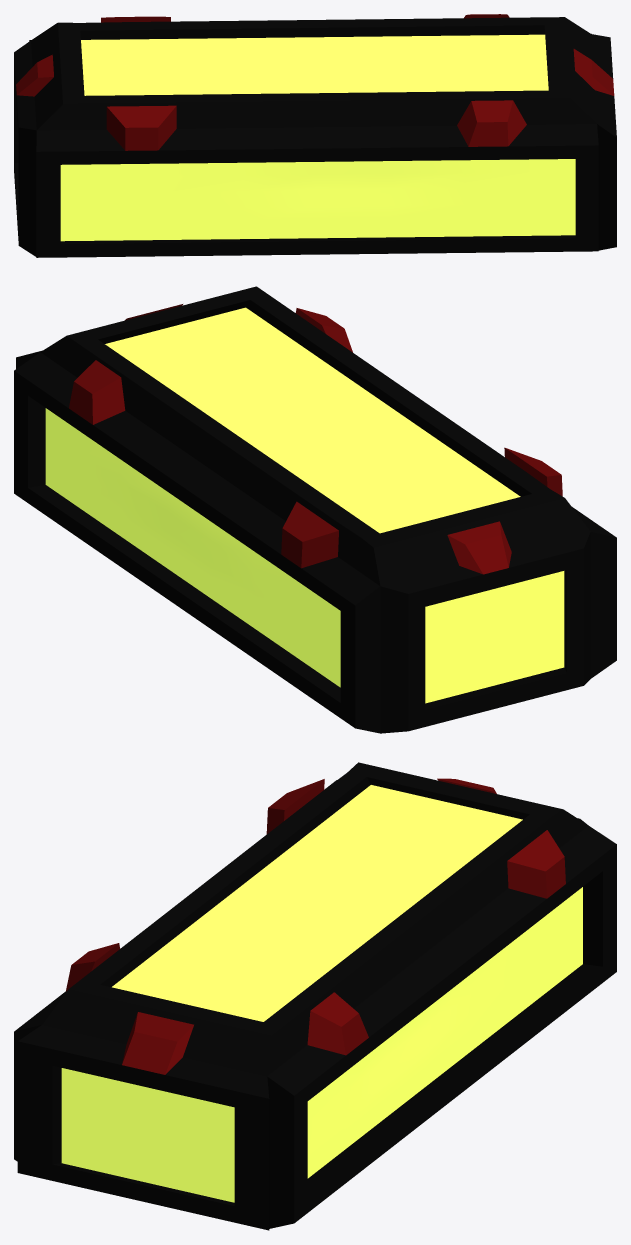
The model's file is cargo.fbx.
3 renders of one model, top to bottom at view 1: azimuth 30°, elevation 25°; view 2: azimuth 150°, elevation 25°; view 3: azimuth 270°, elevation 25°, orthographic. The views are drawn at different scales.
Parts seen in each view (by area): view 1: pCube1; view 2: pCube1; view 3: pCube1.
Part boxes in pixels (x1=…): pCube1: x1=14, y1=14, x2=616, y2=257; pCube1: x1=14, y1=286, x2=616, y2=733; pCube1: x1=14, y1=762, x2=616, y2=1230.
Size of the model in its own units: 10.41 by 2.72 by 8.27.
